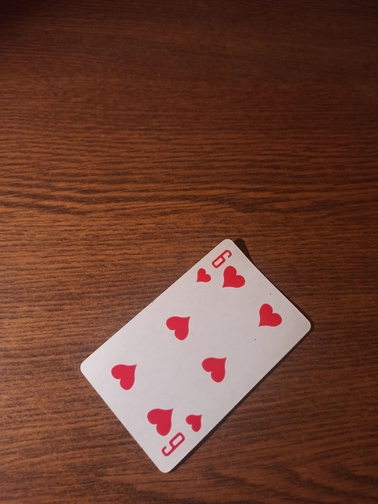sixhearts: (79, 238, 313, 474)
